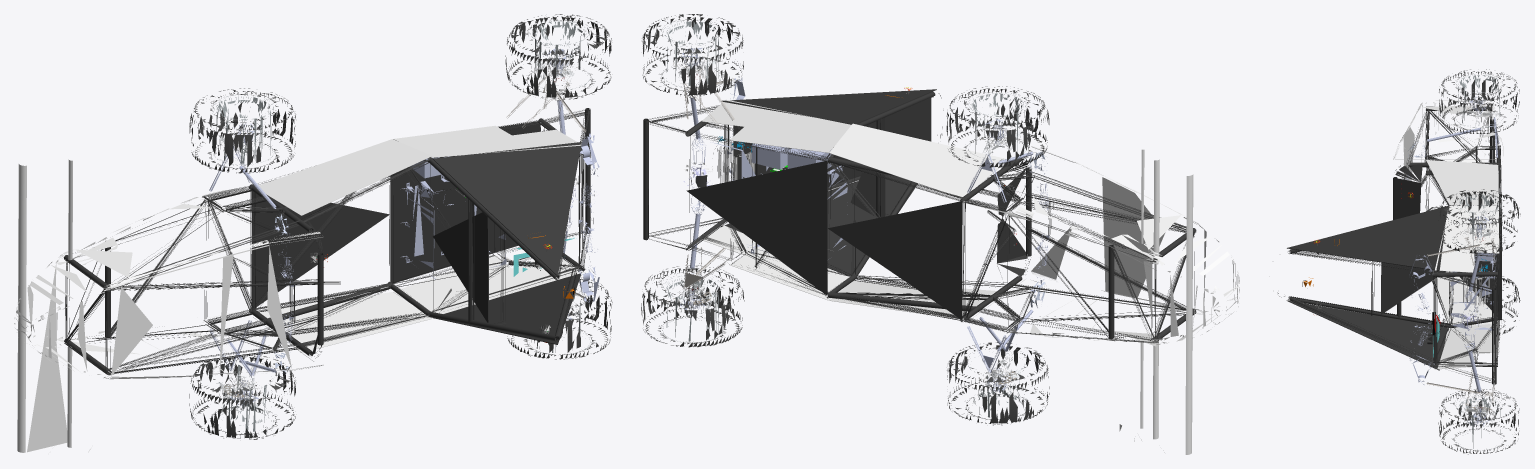
File: car.glb
3 renders of one model, left to right at view 1: azimuth 30°, elevation 25°; view 2: azimuth 150°, elevation 25°; view 3: azimuth 270°, elevation 25°, orthographic. The views are drawn at different scales.
Visible parts, largest first — view 1: new changed frame - Copy - Copy (3) 1-1, new assembly, side panel electrical-2, nosecone-1, wing 1-1, side panal 1-3, side panel 2-2, tyre 2 2k24-2, tyre 2 2k24-4, battery casing-1_66d568, rim 2024-1; view 2: new changed frame - Copy - Copy (3) 1-1, new assembly, nosecone-1, side panal 1-3, wing 1-1, side panel 2-2, side panel electrical-2, tyre 2 2k24-2, tyre 2 2k24-4, rim 2024-4, 12v battery-2, DATAI 48V 6KW Motor-1_bb14e6; view 3: new changed frame - Copy - Copy (3) 1-1, new assembly, side panel electrical-2, side panel 2-2, side panal 1-3, nosecone-1, tyre 2 2k24-2, tyre 2 2k24-4, DATAI 48V 6KW Motor-1_bb14e6, battery casing-1_66d568, rim 2024-4.
Boxes of the visible parts, x1,y1,x2,y2 form: new changed frame - Copy - Copy (3) 1-1: (64, 108, 590, 375); new assembly: (189, 14, 611, 439); side panel electrical-2: (433, 142, 581, 276); nosecone-1: (14, 186, 323, 379); wing 1-1: (17, 159, 139, 452); side panal 1-3: (259, 139, 431, 215); side panel 2-2: (393, 125, 581, 157); tyre 2 2k24-2: (189, 88, 295, 173); tyre 2 2k24-4: (507, 278, 612, 359); battery casing-1_66d568: (402, 175, 506, 279); rim 2024-1: (212, 364, 273, 432); new changed frame - Copy - Copy (3) 1-1: (643, 91, 1196, 342); new assembly: (642, 14, 1049, 425); nosecone-1: (963, 146, 1239, 344); side panal 1-3: (829, 123, 1005, 196); wing 1-1: (1092, 149, 1193, 454); side panel 2-2: (702, 99, 851, 152); side panel electrical-2: (721, 89, 936, 124); tyre 2 2k24-2: (946, 86, 1049, 167); tyre 2 2k24-4: (641, 265, 744, 347); rim 2024-4: (662, 275, 720, 343); 12v battery-2: (787, 148, 831, 168); DATAI 48V 6KW Motor-1_bb14e6: (718, 142, 754, 183); new changed frame - Copy - Copy (3) 1-1: (1277, 106, 1502, 384); new assembly: (1286, 74, 1520, 384); side panel electrical-2: (1287, 206, 1447, 270); side panel 2-2: (1434, 205, 1499, 272); side panal 1-3: (1426, 160, 1498, 205); nosecone-1: (1393, 100, 1503, 251); tyre 2 2k24-2: (1438, 69, 1519, 135); tyre 2 2k24-4: (1438, 389, 1519, 454); DATAI 48V 6KW Motor-1_bb14e6: (1463, 268, 1489, 307); battery casing-1_66d568: (1450, 254, 1496, 330); rim 2024-4: (1455, 396, 1502, 450).
Bounding box in the file's own units: 2.98 × 1.51 × 1.42.
